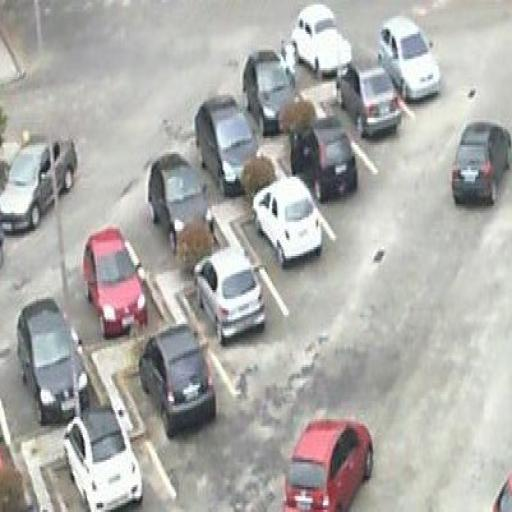car: (15, 292, 92, 430), (137, 322, 218, 446), (281, 414, 377, 512), (60, 401, 144, 512), (0, 131, 82, 238), (192, 245, 270, 351), (194, 93, 267, 202), (80, 224, 148, 338), (147, 150, 217, 258), (252, 172, 326, 274), (334, 56, 408, 150), (288, 114, 362, 208), (376, 16, 444, 109), (449, 118, 512, 213), (241, 48, 305, 138), (292, 4, 354, 80)
